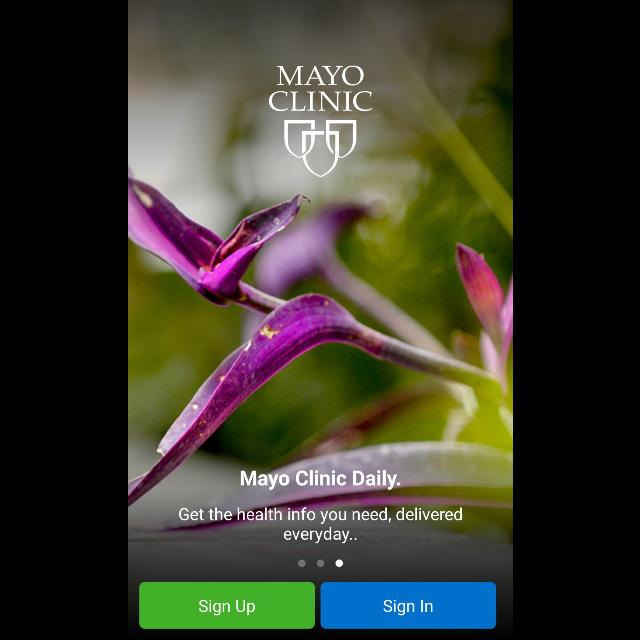backgroundimage: (128, 1, 512, 640)
image: (268, 66, 372, 178)
pageindicator: (297, 558, 343, 568)
text: (178, 506, 462, 544), (239, 470, 399, 490)
textbutton: (320, 582, 496, 628), (139, 582, 315, 628)
